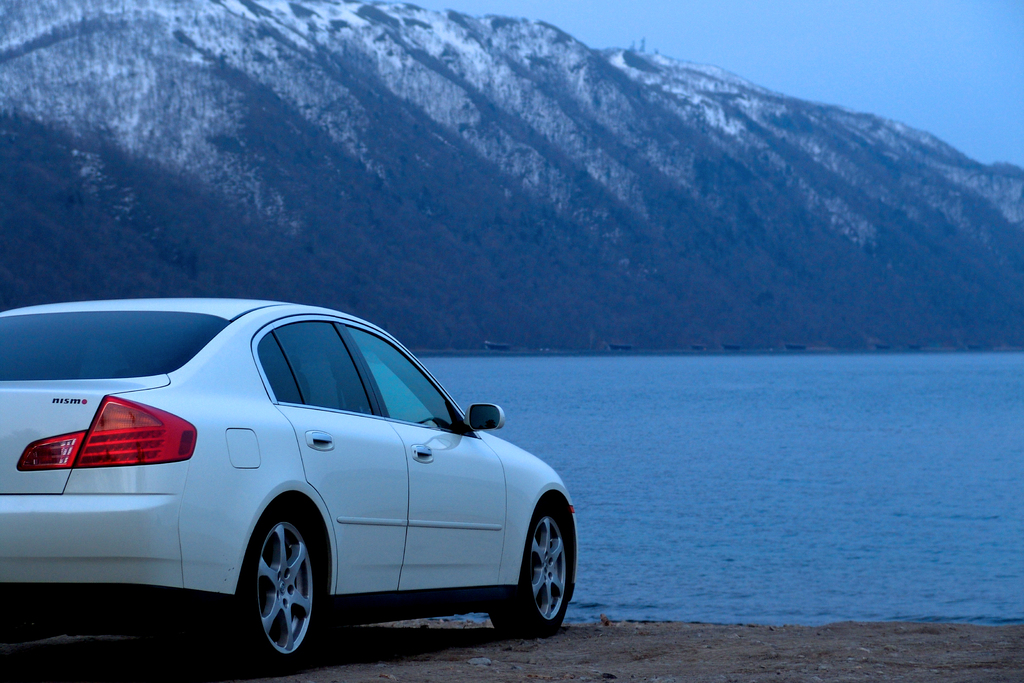Wheel: (221, 501, 324, 673), (488, 492, 577, 639)
